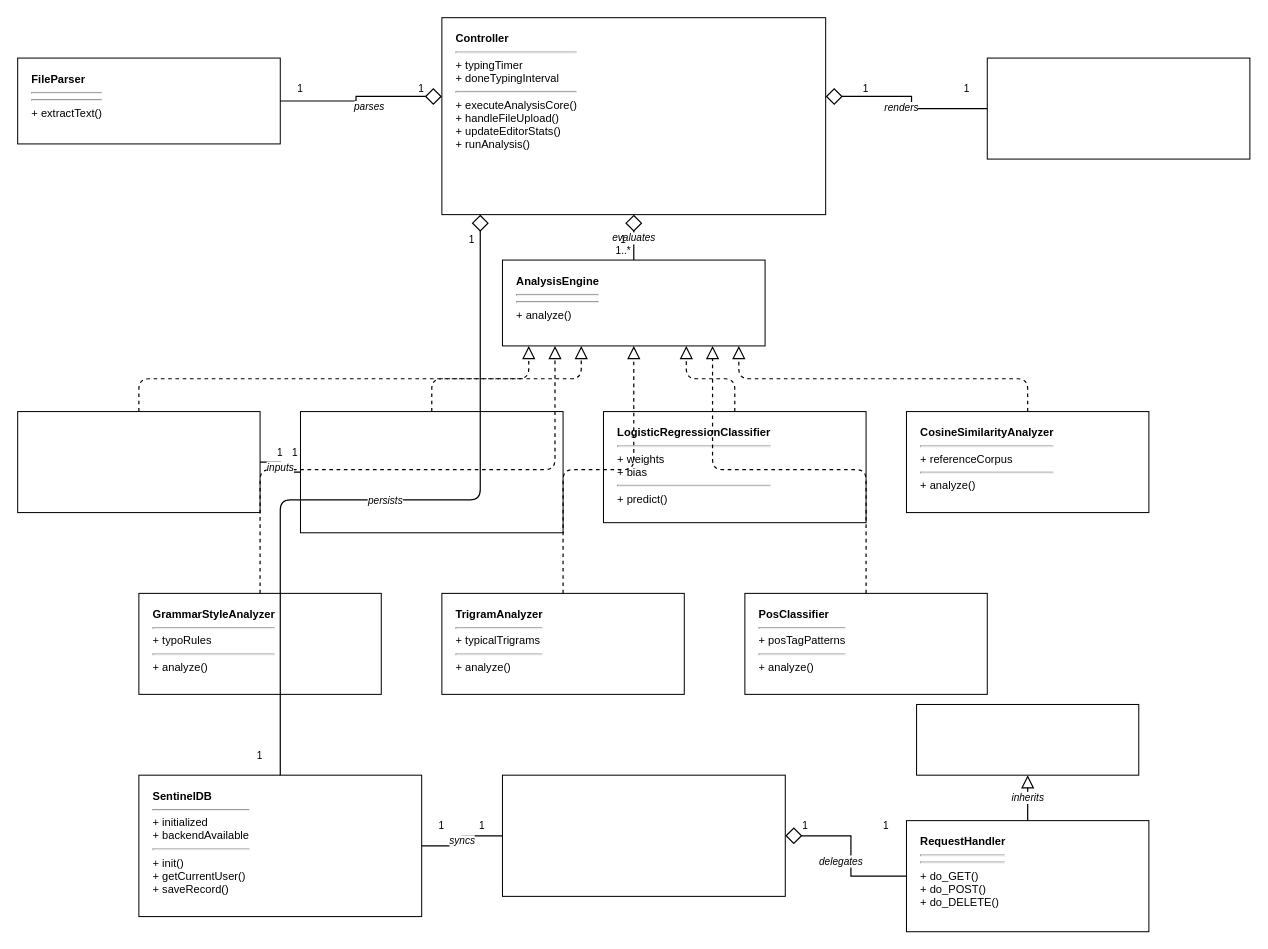
The diagram is 1268 pixels wide and 949 high, and some of its shapes have lost their labels. The shapes that lost their labels are listed below. From the top down, each one's box as (x1, y1, x2, y2) in pixels, then its label:
(986, 57, 1250, 159): ChartRenderer + renderGauge() + renderHistoryChart()
(17, 411, 260, 513): PerplexityAnalyzer + nGramModel + analyze()
(299, 411, 563, 533): KNNClassifier + trainingVectors + kNeighbors + extractFeatures() + classify()
(916, 703, 1139, 775): BaseHTTPRequestHandler
(501, 774, 785, 896): SentinelServer + DB_FILE + PORT + run() + init_db()
